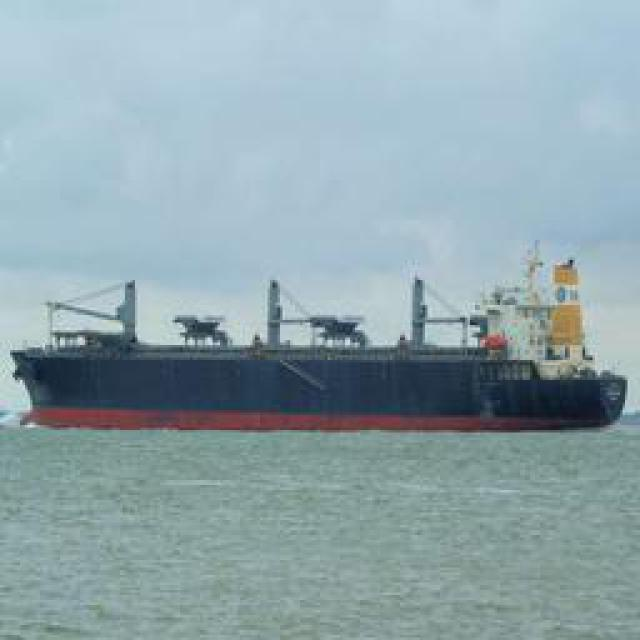Ship: (19, 256, 629, 436)
